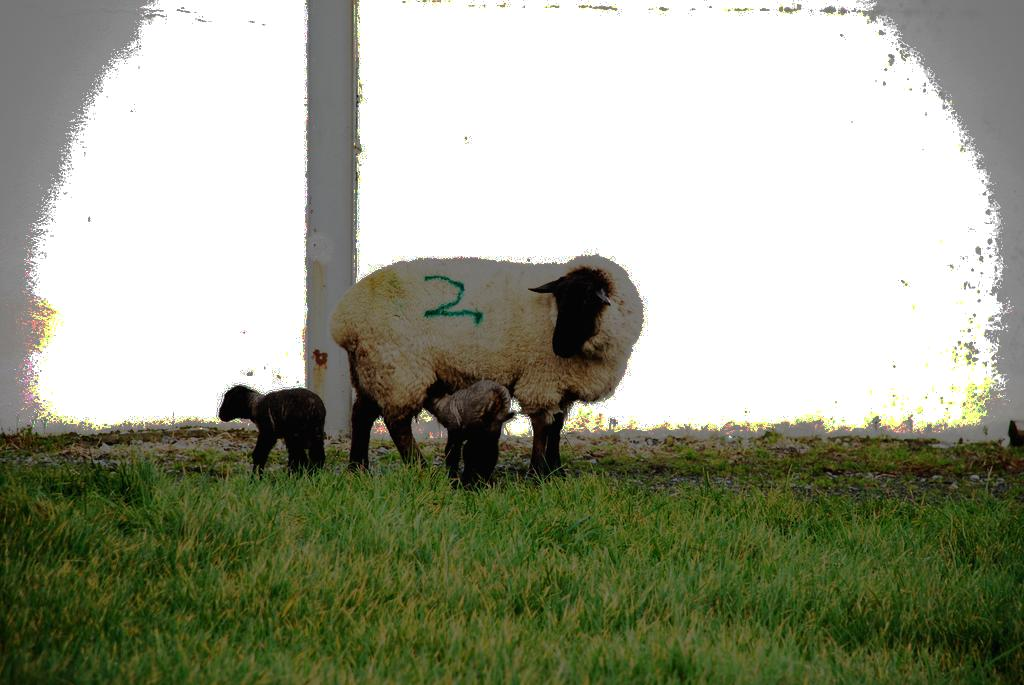Sheep: (311, 254, 656, 484), (219, 382, 324, 478), (426, 384, 522, 488)
